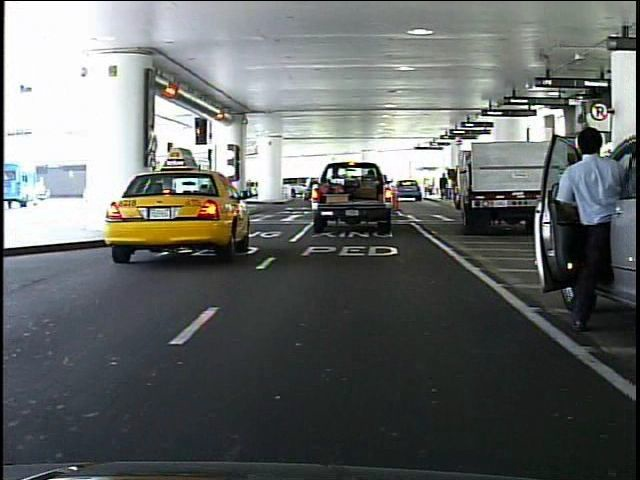person: (553, 122, 625, 333), (202, 167, 221, 213)
